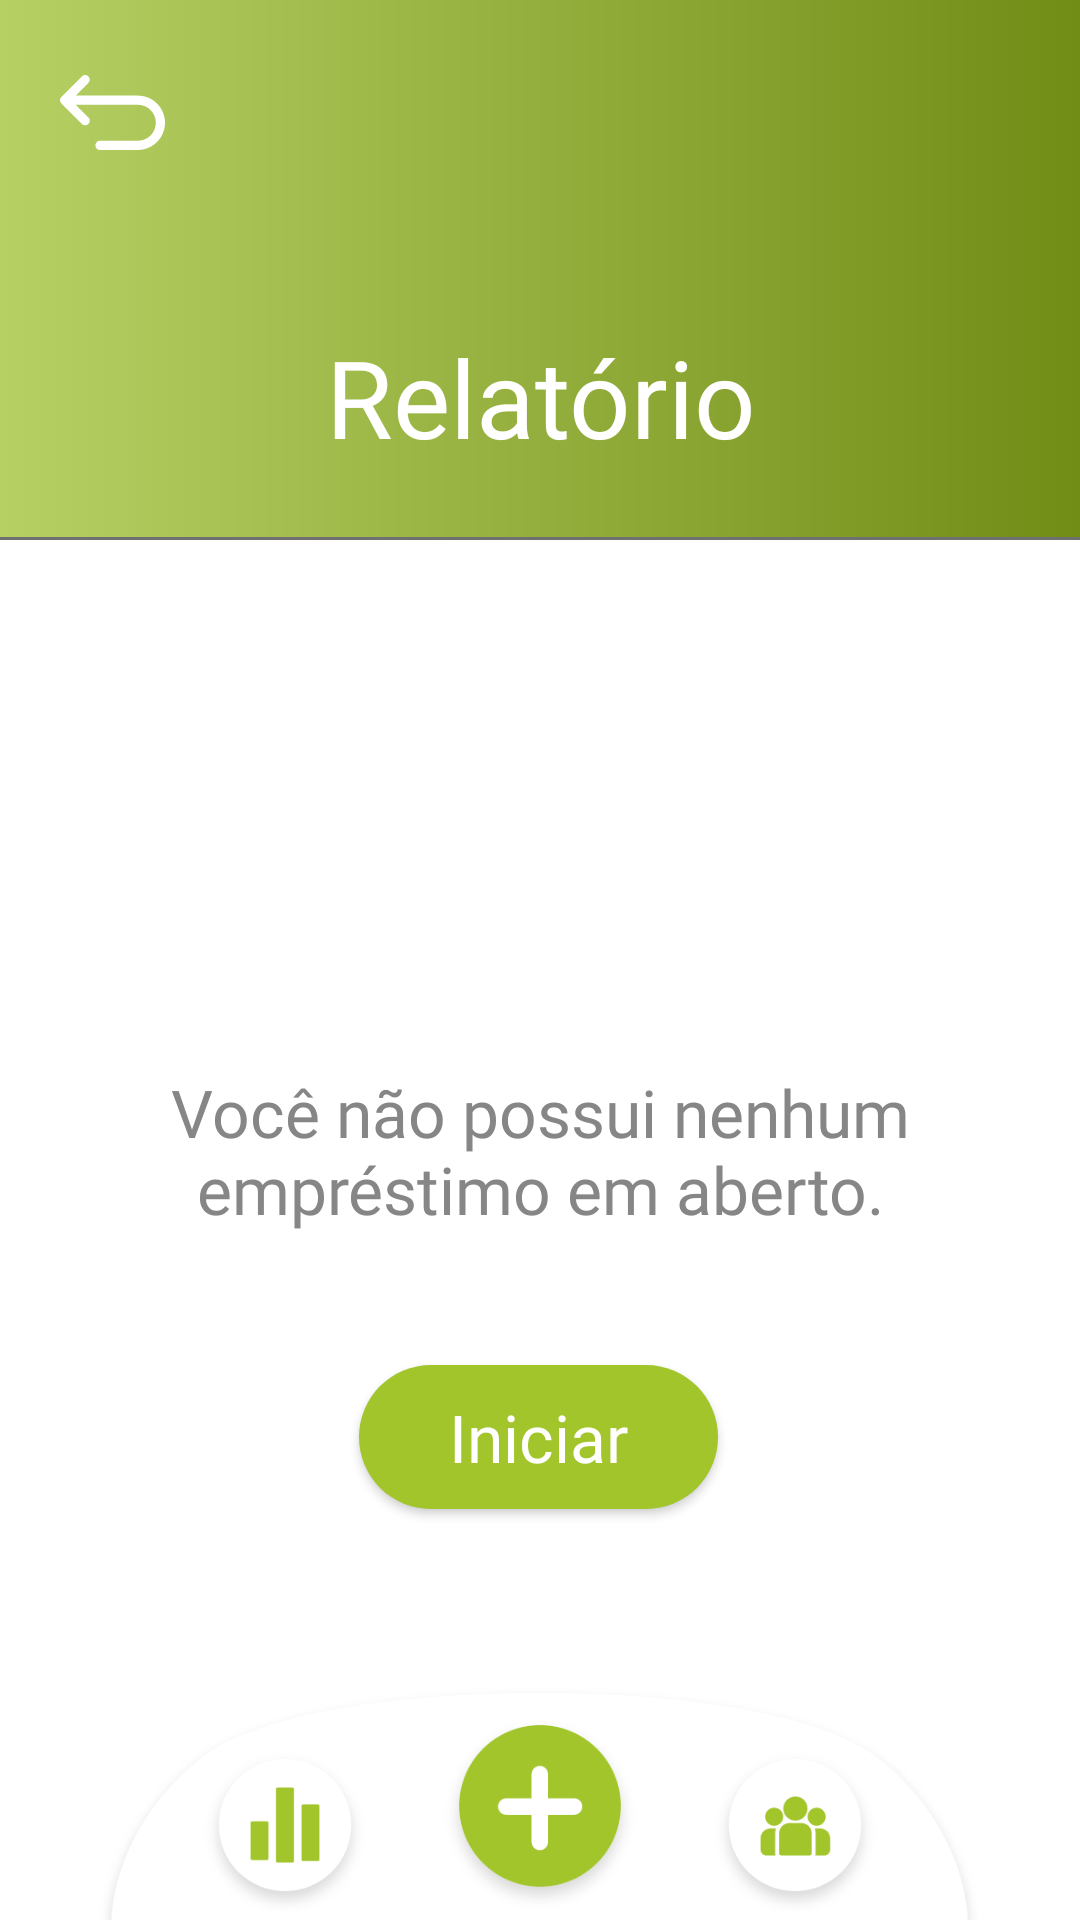

Screen size 1080 × 1920. Icon name, then its box in pixels as (x1, y1, x2, y2):
resource return: (60, 75, 165, 150)
